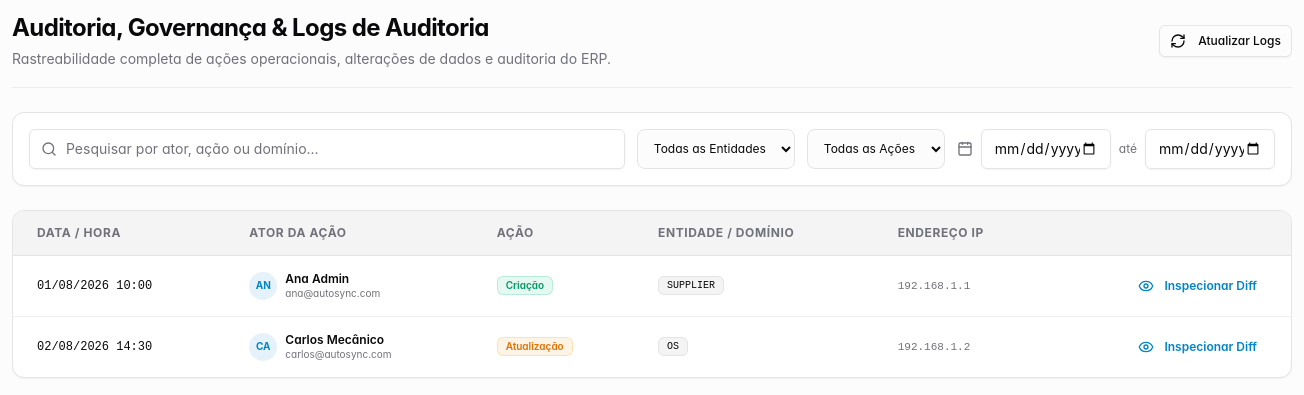
Test: Audit & AuditDiff Module (Phase 2) › 5. should filter audit logs by search term
Expected: the text "Ana Admin" is shown, [285,271,349,286]
Type "Carlos" into the field with placeholder "Pesquisar por ator, ação ou domínio...". click: (327, 149)
box: [29,129,625,169]
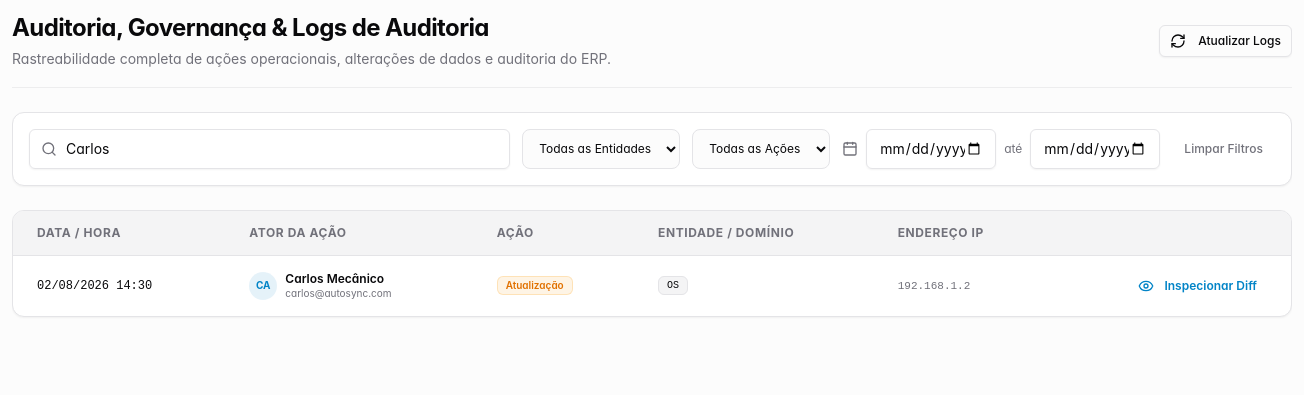
Expected: the text "Carlos Mecânico" is shown, [285,271,392,287]
Now the text "Ana Admin" is gone
